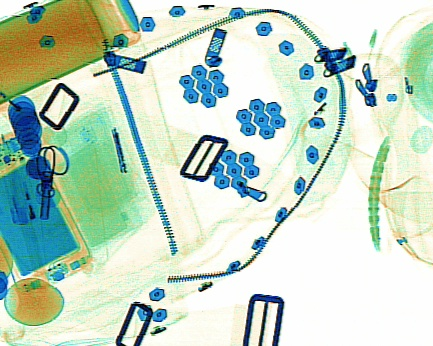lighter: (5, 141, 37, 224)
